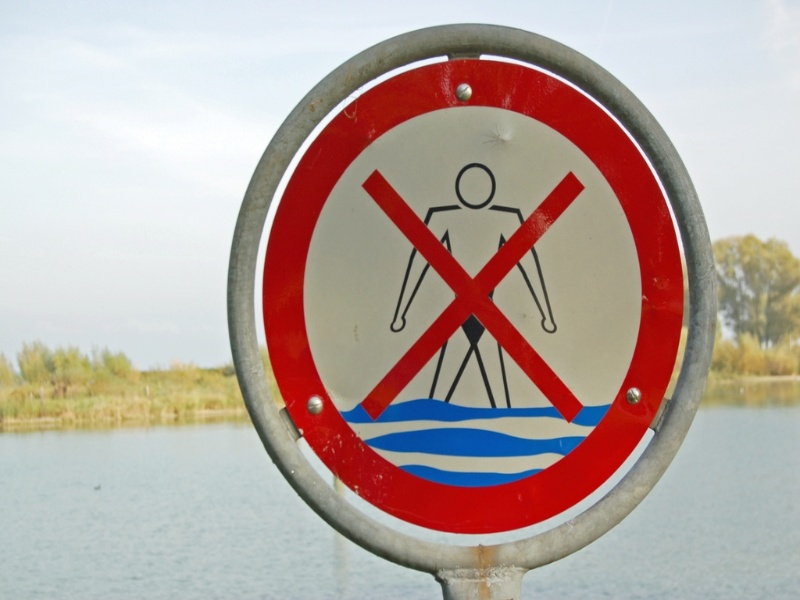no_swimming: (247, 56, 683, 543)
